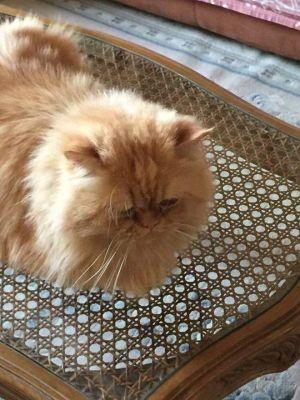persian: (43, 106, 225, 263)
